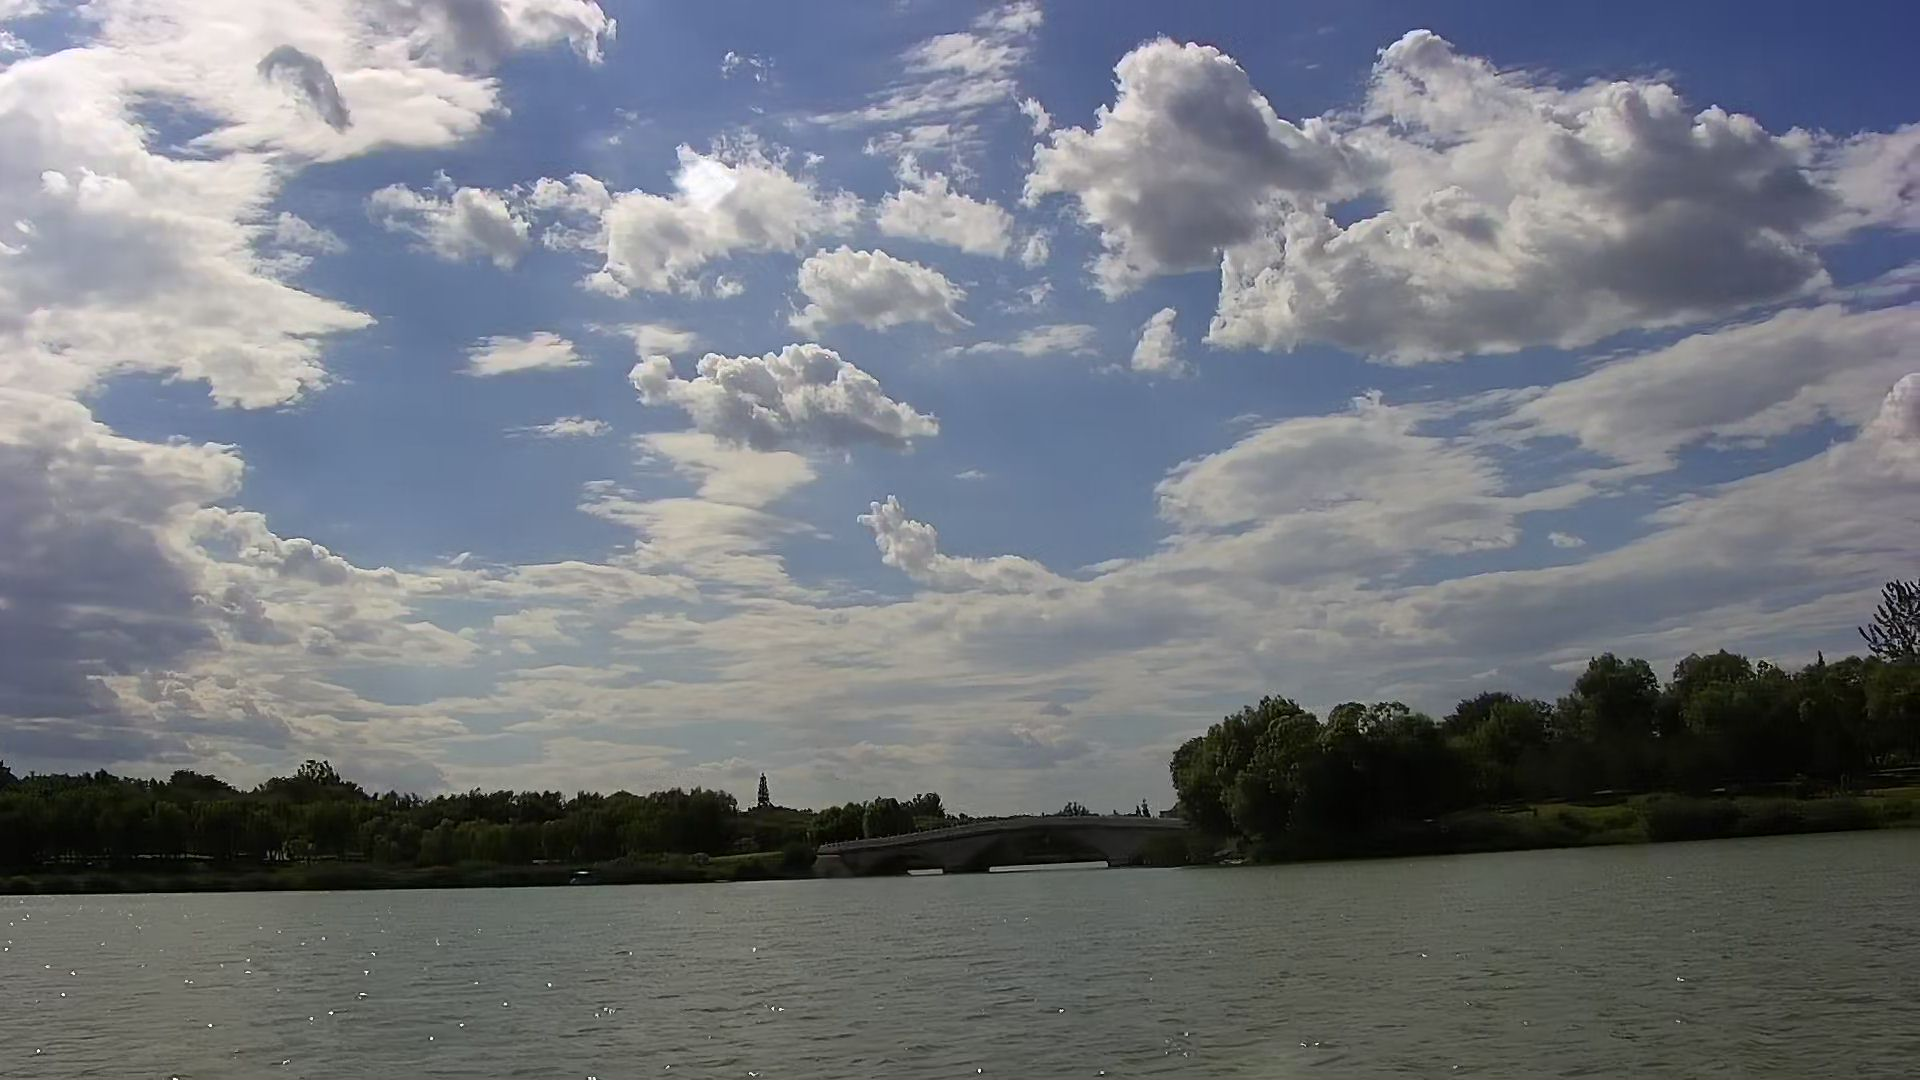bridge: (823, 808, 1174, 878)
